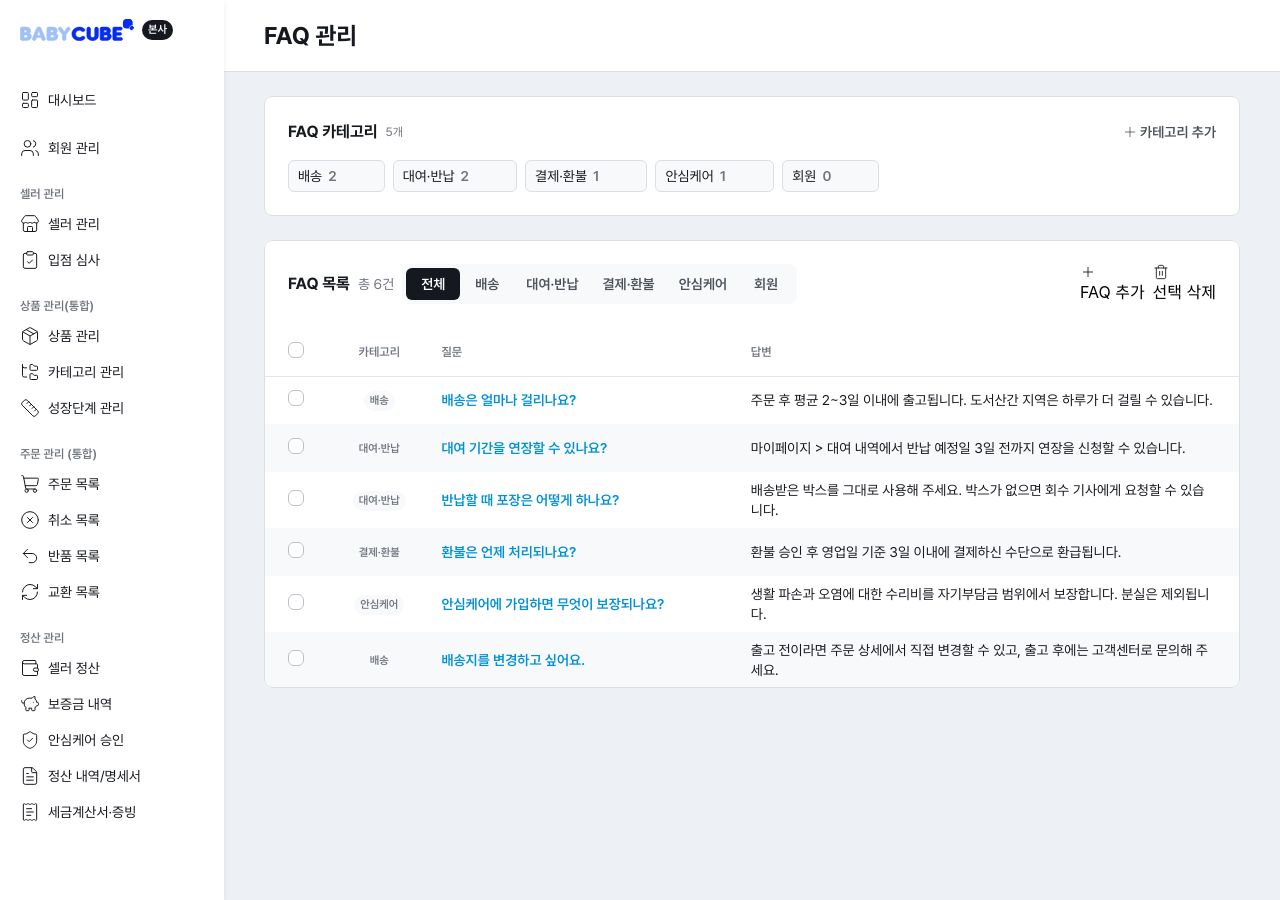
FaqListPage › 질문 → FAQ 미리보기 › 질문을 누르면 답변 전문이 모달에 뜬다
The width and height of the screenshot is (1280, 900).
Click the button "배송은 얼마나 걸리나요?" at (509, 400), box [441, 388, 576, 412]
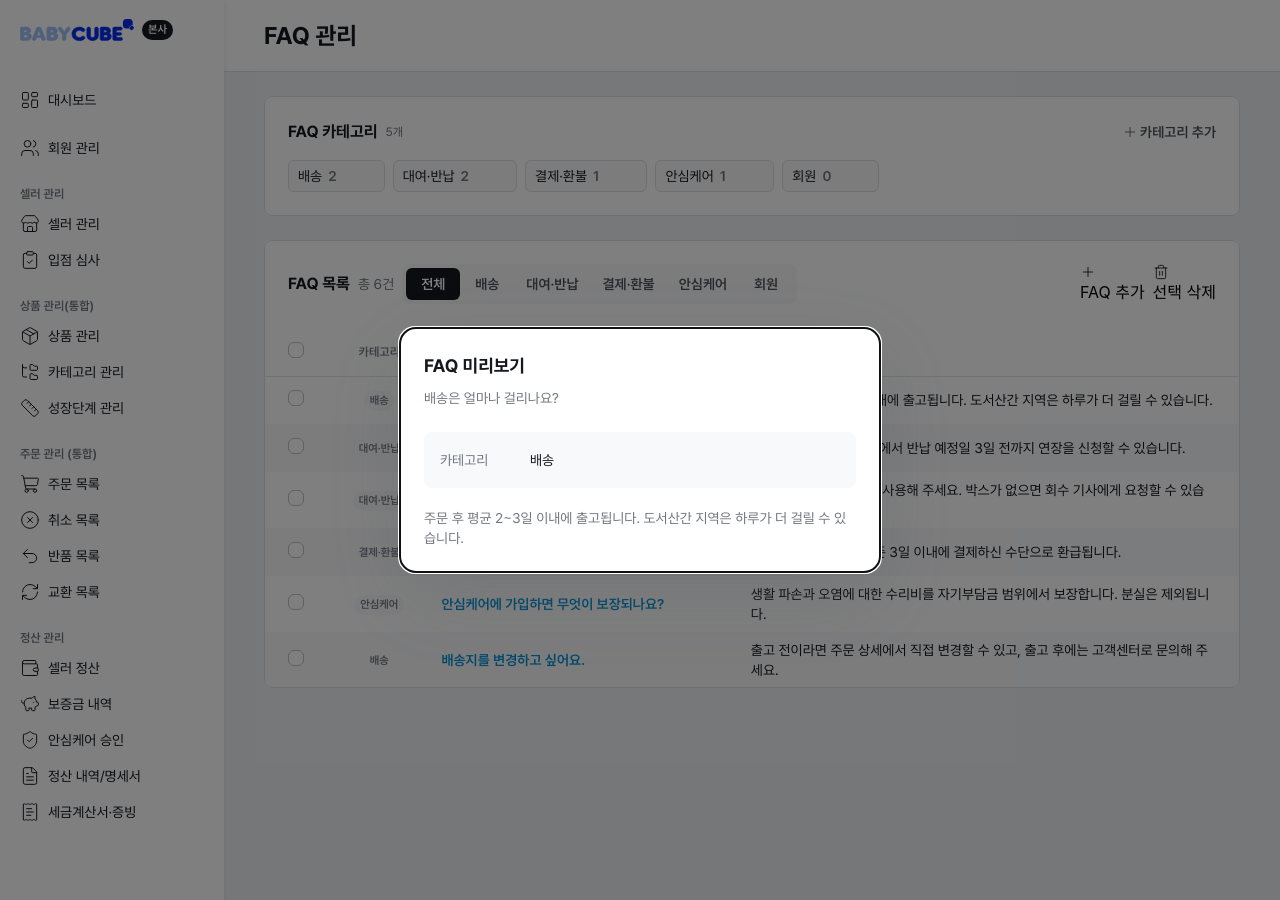
Expected: the heading "FAQ 미리보기" is shown, [424, 355, 525, 376]
Expected: the text "카테고리" is shown, [440, 452, 488, 468]
Expected: the text "배송" is shown, [530, 448, 554, 472]
